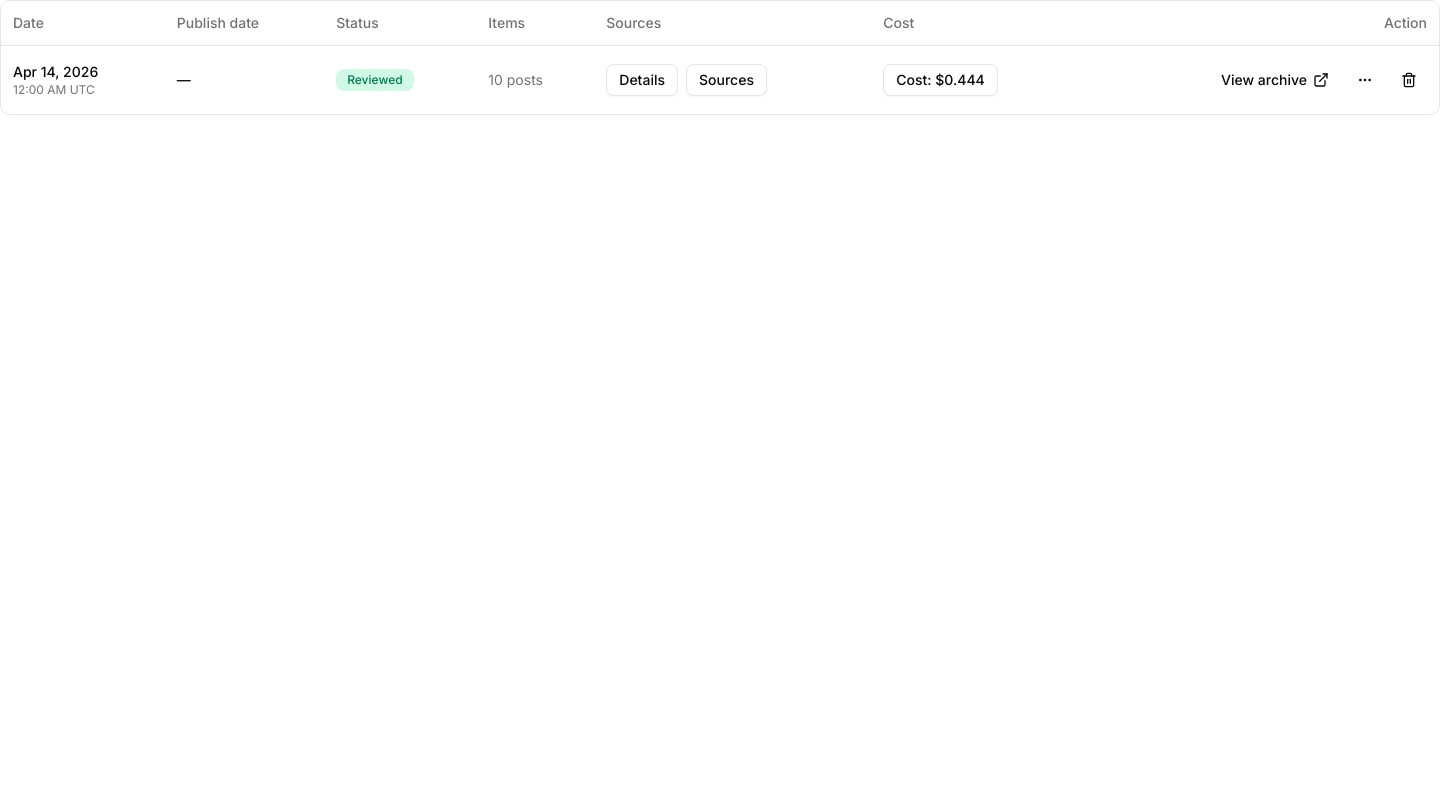
it: RunsTable cost button (REQ-060) › clicking cost button opens dialog with run's breakdown
What coordinates should you click on to do the following:
click the button with test id "cost-button"
I would click on:
 (941, 80)
Its box is [883,64,998,96].
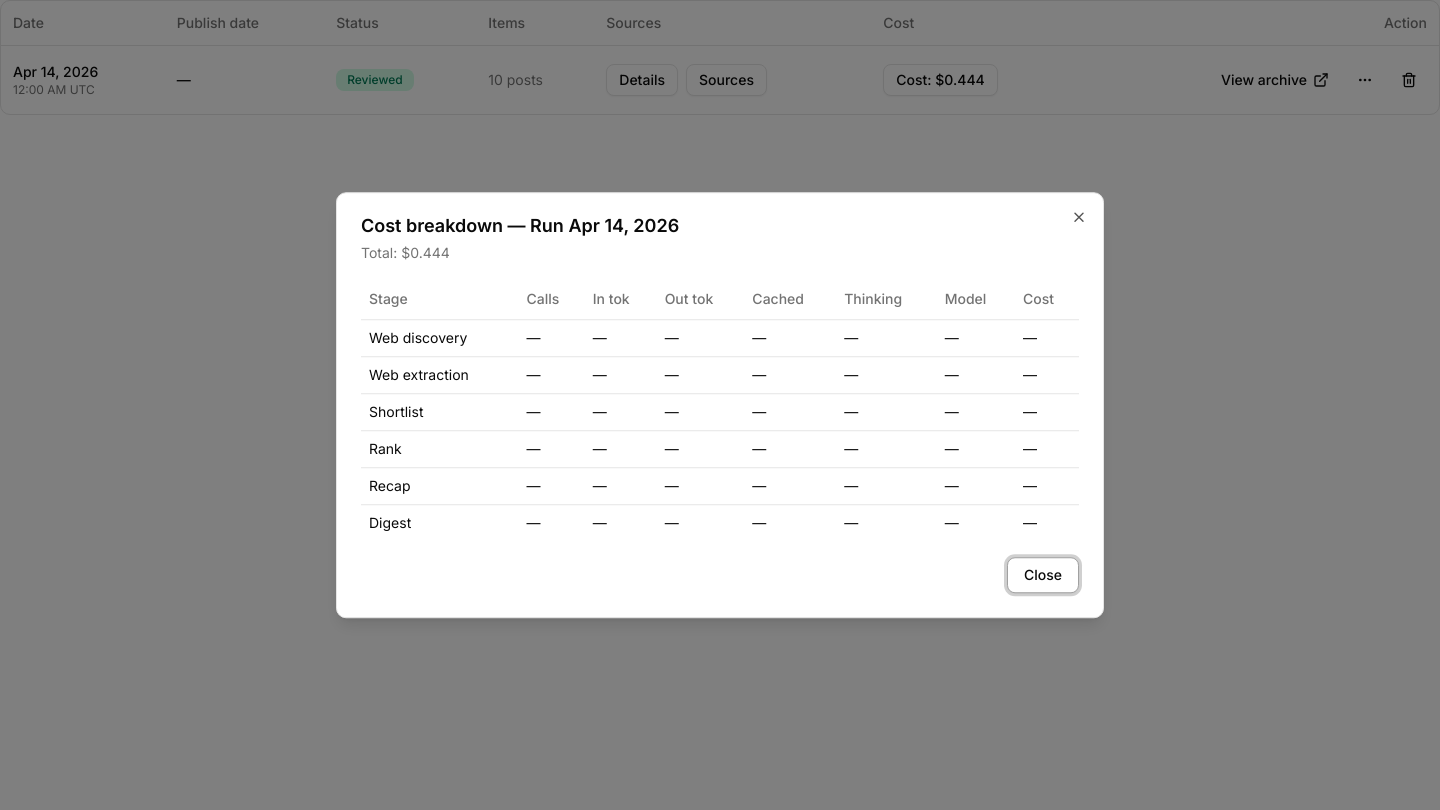
Result: the text "Total: $0.444" is shown at [361,244,450,261]
